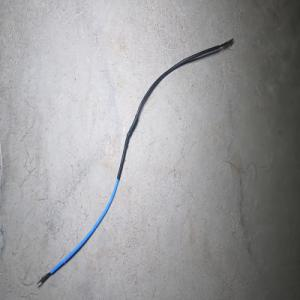Wire: (36, 37, 234, 287)
